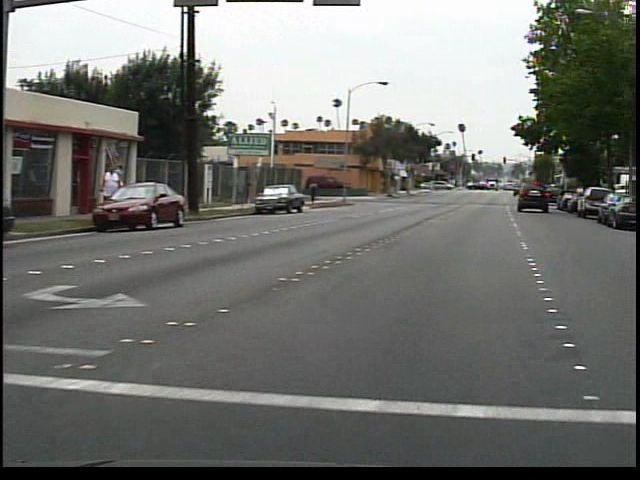person: (101, 158, 131, 223), (312, 176, 326, 206)
